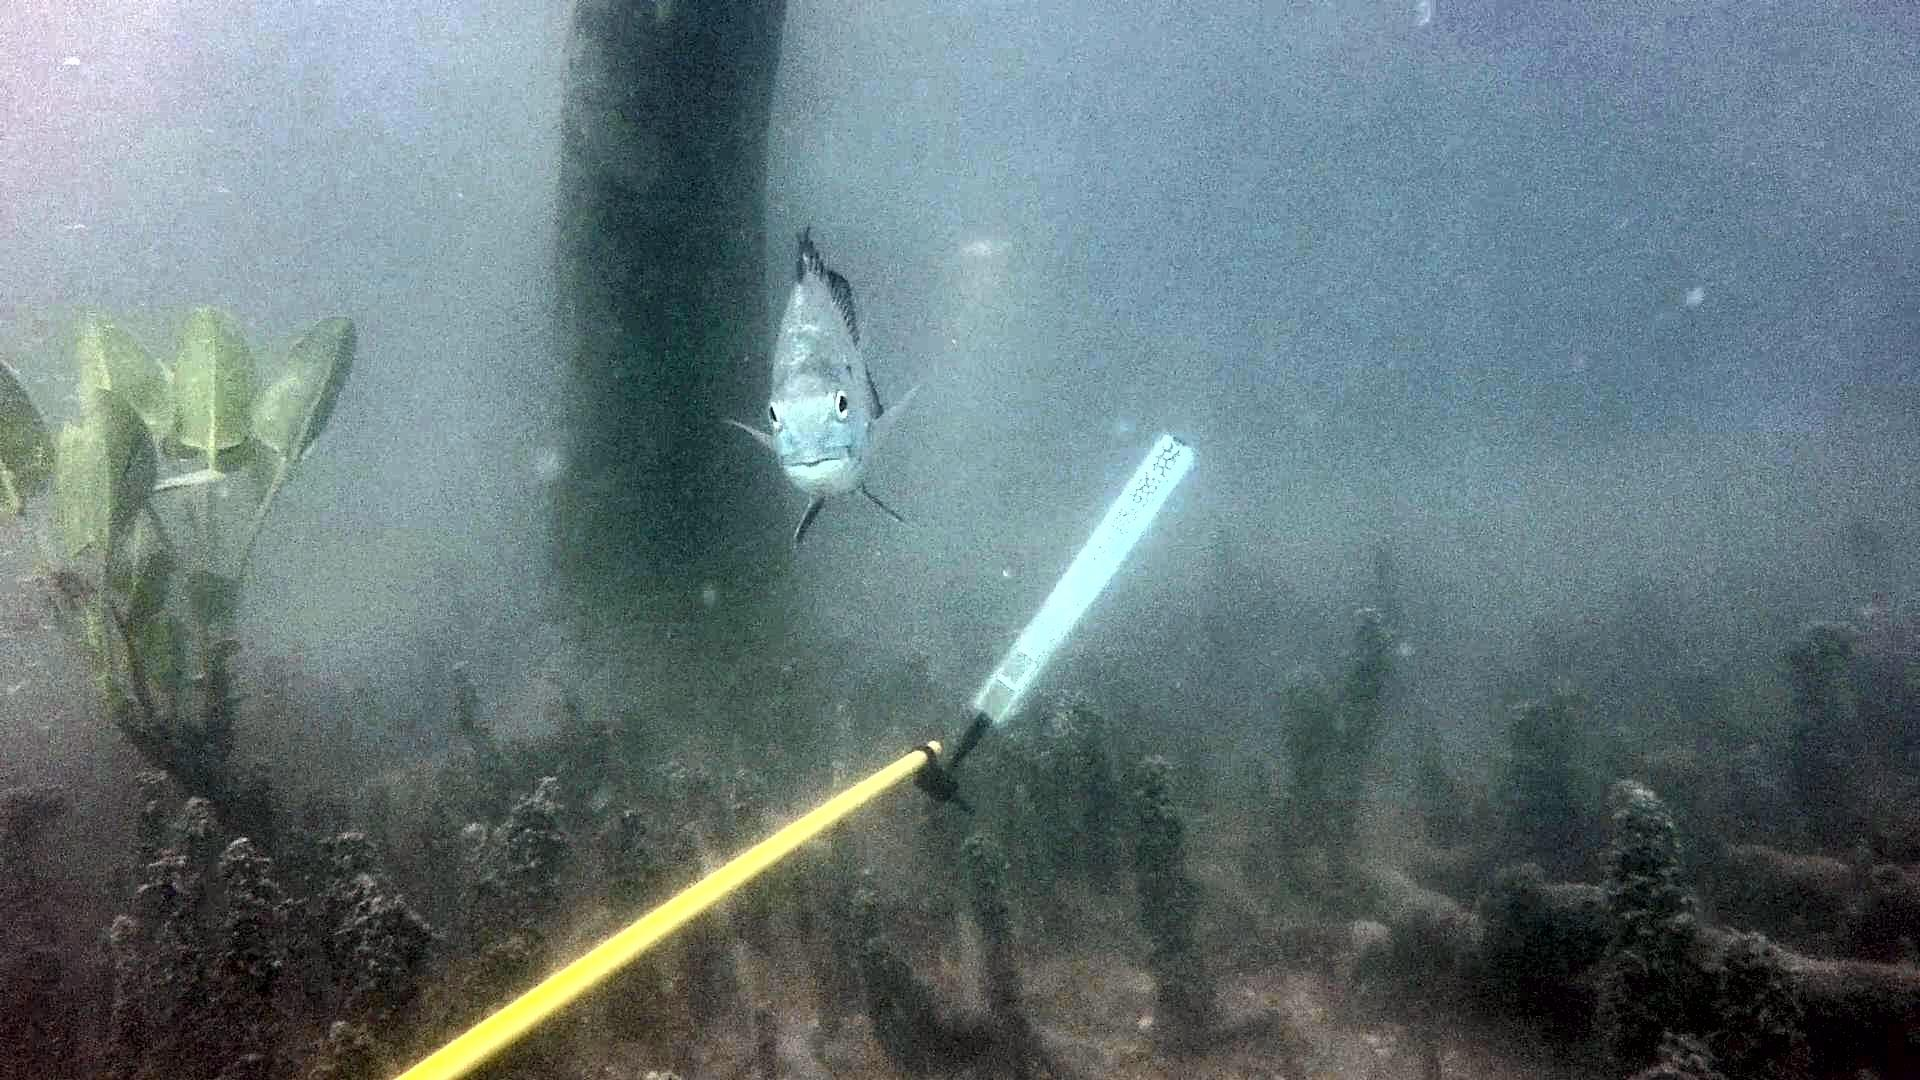acanthopagrus palmaris: (721, 216, 943, 557)
